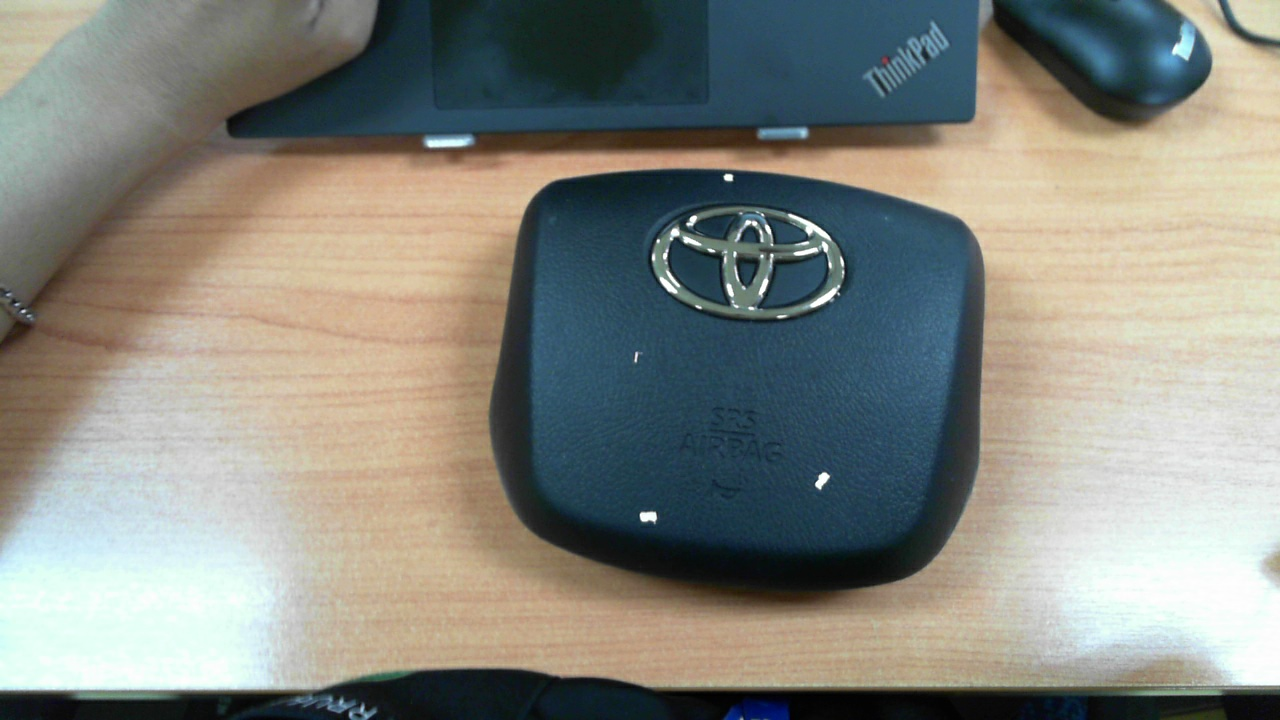Airbag: (489, 169, 985, 588)
Mark: (815, 471, 831, 491), (639, 511, 658, 523), (633, 351, 643, 364), (723, 173, 734, 182)
